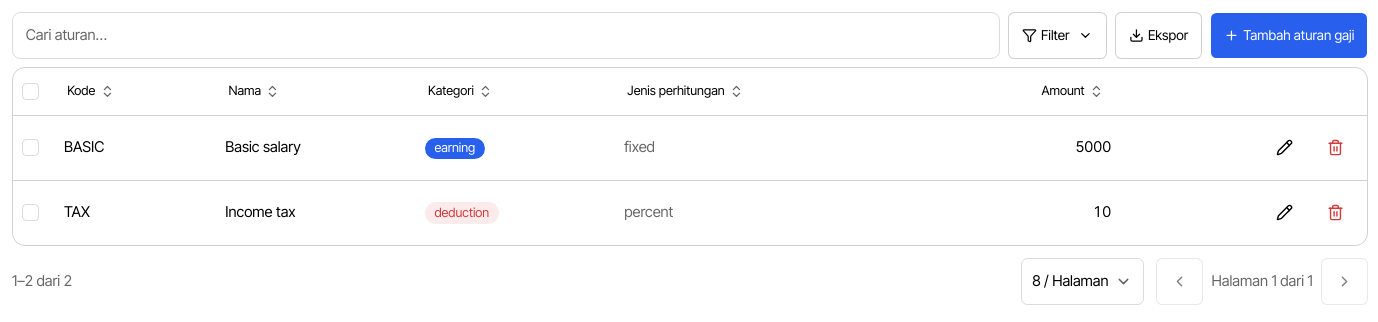
Test: SalaryRulesSection › filters rules by search
The width and height of the screenshot is (1378, 322).
Check: the text "BASIC" is shown, box top-left (64, 138), bottom-right (104, 156)
Type "TAX" into the search field with placeholder "Cari aturan…" at (506, 35), box top-left (12, 12), bottom-right (1000, 59)
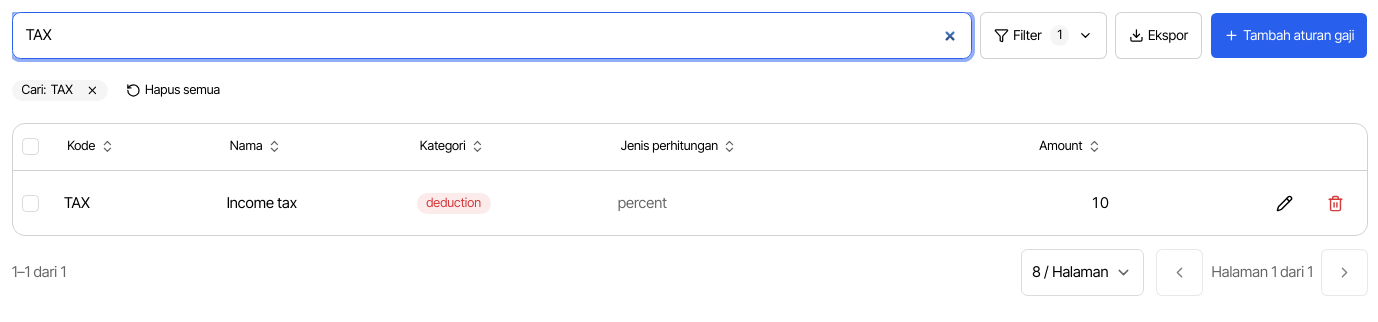
Check: the text "TAX" next to "Cari" is shown, box top-left (51, 82), bottom-right (73, 97)
Check: the text "BASIC" is gone
